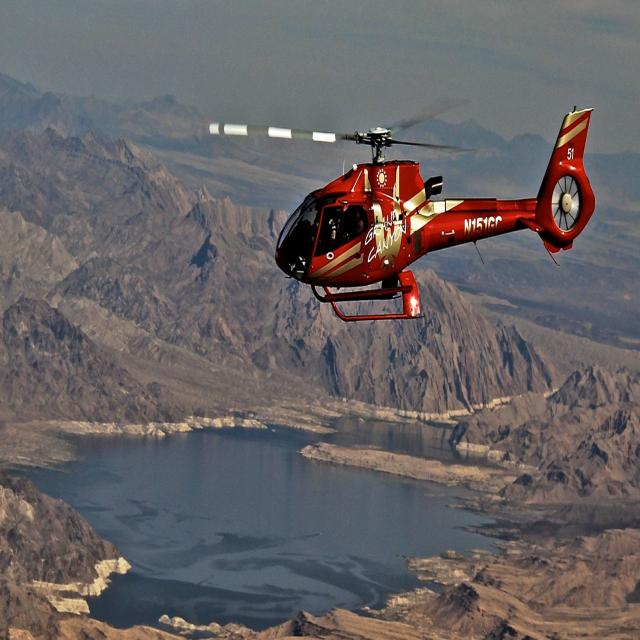helicopter: (204, 98, 605, 334)
